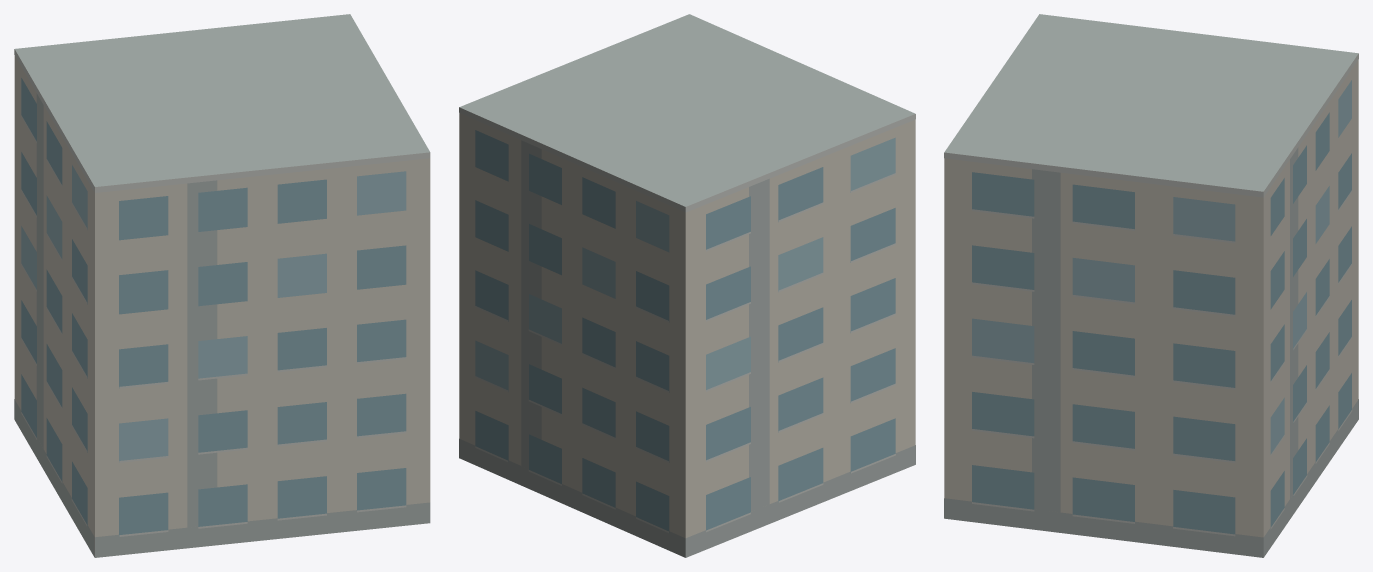
The model's file is residential-8ffd431f-3b83-4d24-a8d7-31df406a68cd.glb.
The picture shows the model from 3 angles, left to right: view 1: azimuth 30°, elevation 25°; view 2: azimuth 150°, elevation 25°; view 3: azimuth 270°, elevation 25°; orthographic projection. The views are drawn at different scales.
Parts seen in each view (by area): view 1: residential-8ffd431f-3b83-4d24-a8d7-31df406a68cd.tmp; view 2: residential-8ffd431f-3b83-4d24-a8d7-31df406a68cd.tmp; view 3: residential-8ffd431f-3b83-4d24-a8d7-31df406a68cd.tmp.
Part boxes in pixels (box(x1,y1,x2,y2)): residential-8ffd431f-3b83-4d24-a8d7-31df406a68cd.tmp: box(14, 14, 430, 557); residential-8ffd431f-3b83-4d24-a8d7-31df406a68cd.tmp: box(459, 14, 915, 557); residential-8ffd431f-3b83-4d24-a8d7-31df406a68cd.tmp: box(944, 14, 1358, 557).
Size of the model in its own units: 15.89 by 15.25 by 15.66.
